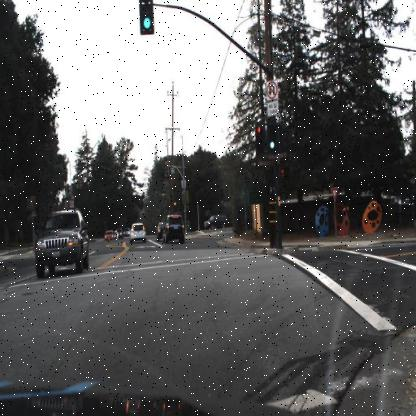car: (33, 207, 90, 279), (162, 213, 186, 244), (202, 212, 228, 230), (128, 222, 147, 244), (156, 221, 164, 245), (104, 229, 113, 241)
trafficLight-Green: (140, 0, 154, 34), (267, 118, 278, 152)
trafficLight-Red: (253, 116, 264, 152)
